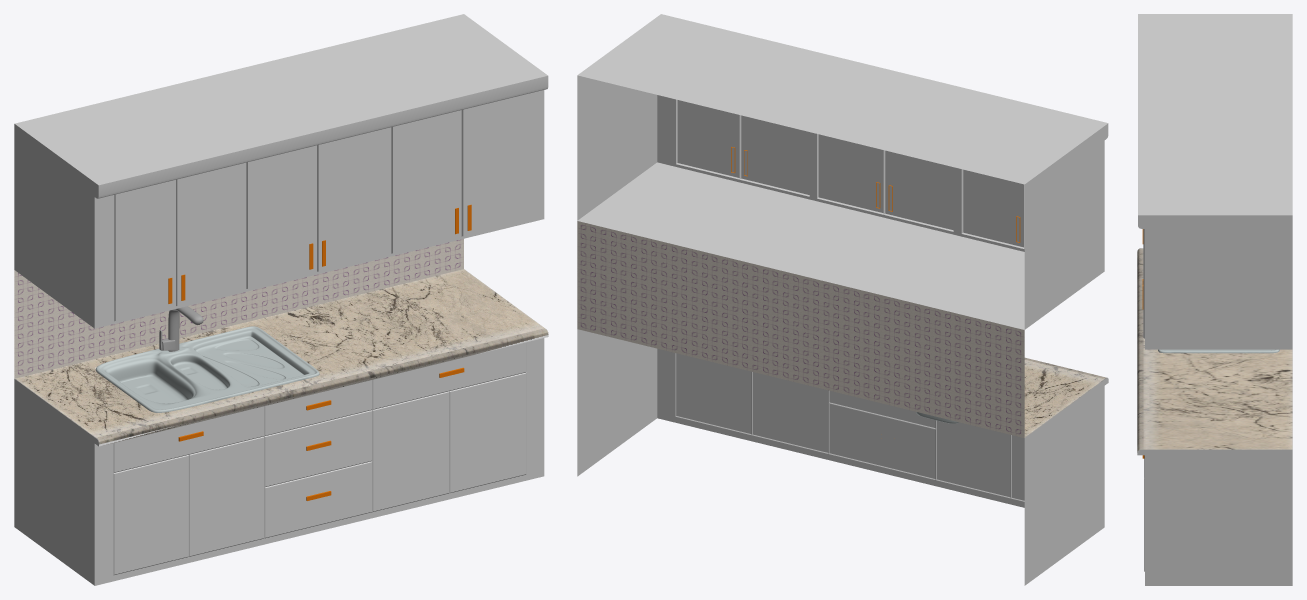
Rendered from kitchen_cabinet_1.glb.
3 views of the same model, side by side, from view 1: azimuth 30°, elevation 25°; view 2: azimuth 150°, elevation 25°; view 3: azimuth 270°, elevation 25° (orthographic). The views are drawn at different scales.
Visible parts, largest first — view 1: Box001, Plane001, Box013; view 2: Box001; view 3: Box001, Plane001.
Part boxes in pixels (left/top/right/bottom): Box001: left=14, top=14, right=548, bottom=585; Plane001: left=95, top=326, right=319, bottom=412; Box013: left=168, top=306, right=203, bottom=351; Box001: left=577, top=14, right=1108, bottom=585; Box001: left=1137, top=14, right=1292, bottom=585; Plane001: left=1158, top=349, right=1279, bottom=353.
Size of the model in its own units: 118 by 102 by 38.58.
6 materials, 2 textured.
